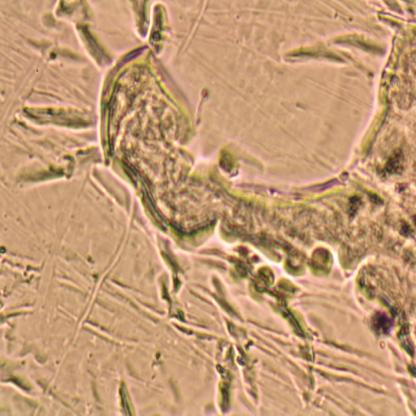Normal: (99, 29, 416, 416)
